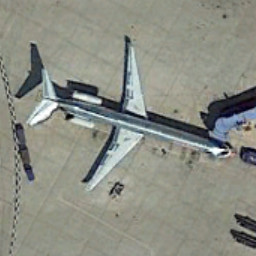Airplane: (19, 32, 237, 204)
